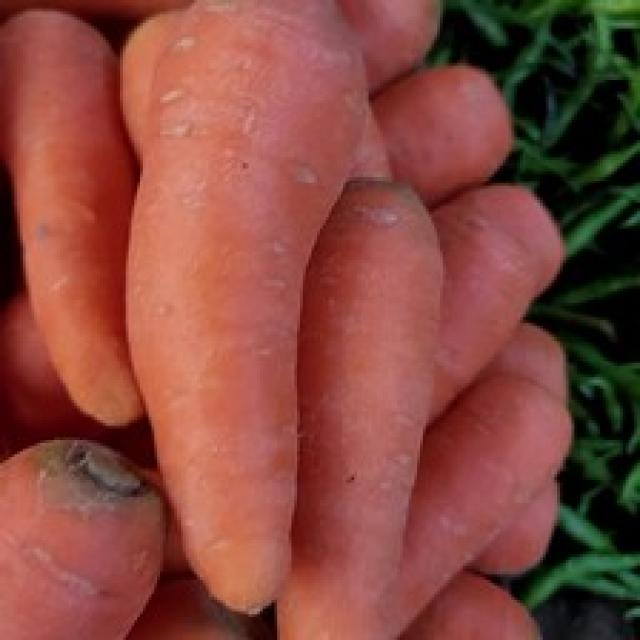Fresh_Carrot: (136, 3, 362, 621), (274, 176, 453, 640), (0, 10, 142, 424)
